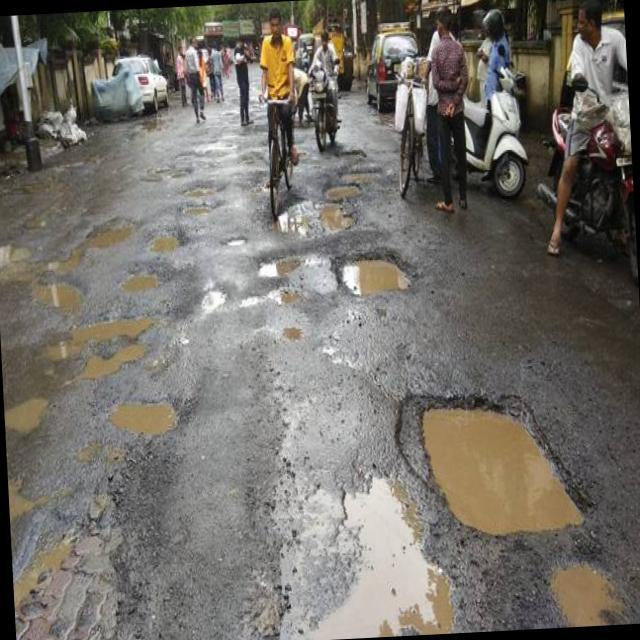Pothole: (406, 374, 603, 555), (302, 446, 460, 640), (0, 212, 128, 319), (10, 515, 86, 640), (538, 547, 640, 629), (33, 307, 170, 361), (336, 242, 442, 306), (59, 337, 160, 403), (102, 402, 206, 448), (272, 185, 364, 233), (316, 170, 396, 221), (168, 272, 232, 334), (232, 277, 310, 323), (8, 463, 60, 531), (3, 382, 63, 437), (106, 254, 162, 303), (140, 222, 188, 254), (180, 179, 229, 207), (252, 250, 312, 267), (276, 324, 306, 352), (176, 202, 218, 218), (210, 238, 243, 254)
